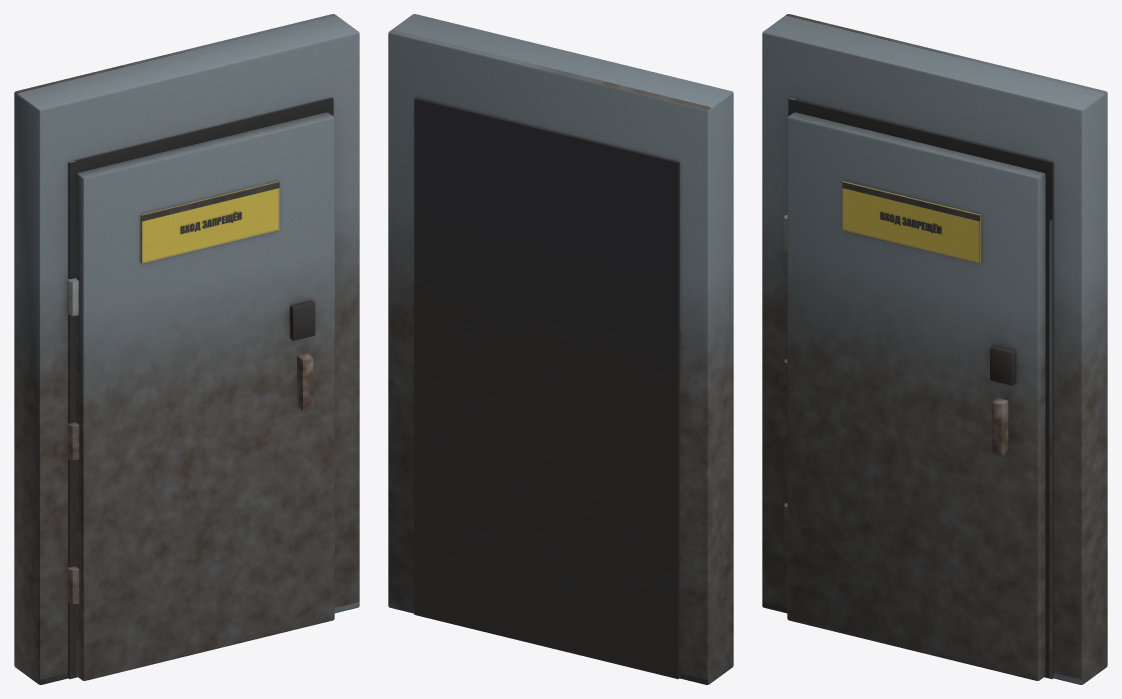
File: g67_pz_door_tech.glb
3 renders of one model, left to right at view 1: azimuth 30°, elevation 25°; view 2: azimuth 150°, elevation 25°; view 3: azimuth 330°, elevation 25°, orthographic.
Visible parts, largest first — view 1: door_leaf, g67_pz_door_tech; view 2: g67_pz_door_tech; view 3: door_leaf, g67_pz_door_tech.
Boxes of the visible parts, box(x1,y1,x2,y2) form: door_leaf: box(76, 112, 334, 680); g67_pz_door_tech: box(14, 14, 359, 684); g67_pz_door_tech: box(388, 14, 733, 684); door_leaf: box(787, 112, 1045, 680); g67_pz_door_tech: box(762, 14, 1107, 684).
Size of the model in its own units: 1.4 by 2.4 by 0.335.
1 material, 1 textured.
